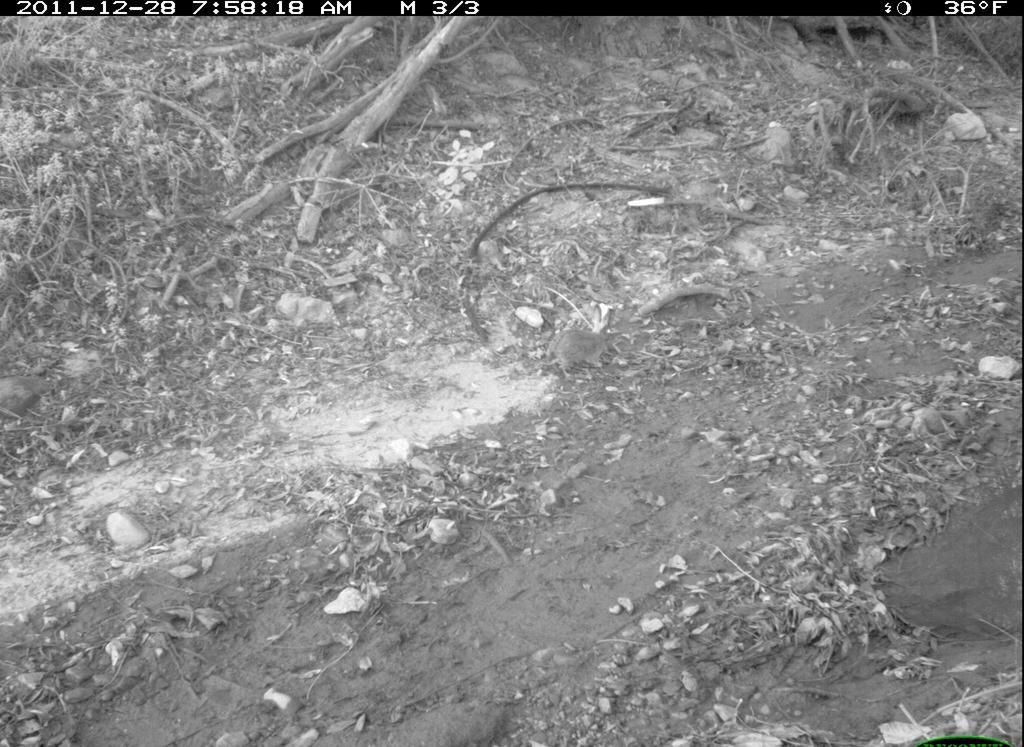rabbit: (539, 322, 630, 385)
